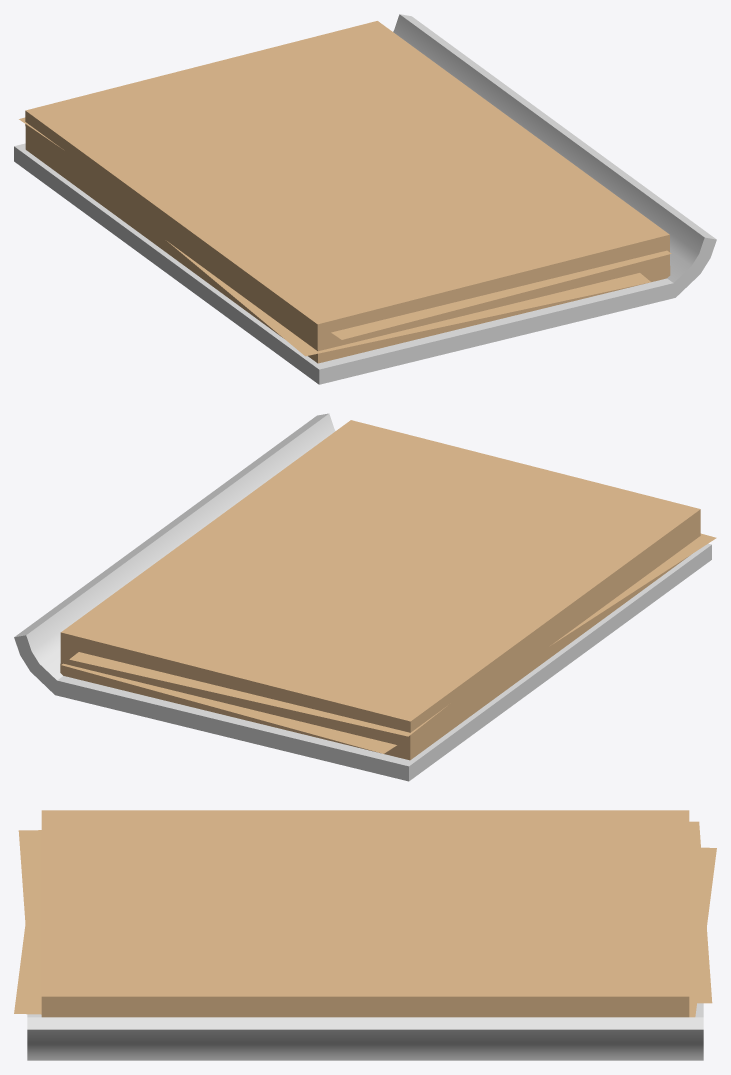
The model's file is OpenBookBottom.fbx.
The picture shows the model from 3 angles, top to bottom: view 1: azimuth 30°, elevation 25°; view 2: azimuth 150°, elevation 25°; view 3: azimuth 270°, elevation 25°; orthographic projection. The views are drawn at different scales.
Visible parts, largest first — view 1: Plane.013; view 2: Plane.013; view 3: Plane.013.
Part boxes in pixels (left/top/right/bottom): Plane.013: left=14, top=14, right=716, bottom=384; Plane.013: left=14, top=413, right=716, bottom=781; Plane.013: left=14, top=810, right=716, bottom=1060.
Bounding box in the file's own units: 1.23 × 0.1686 × 1.66.
